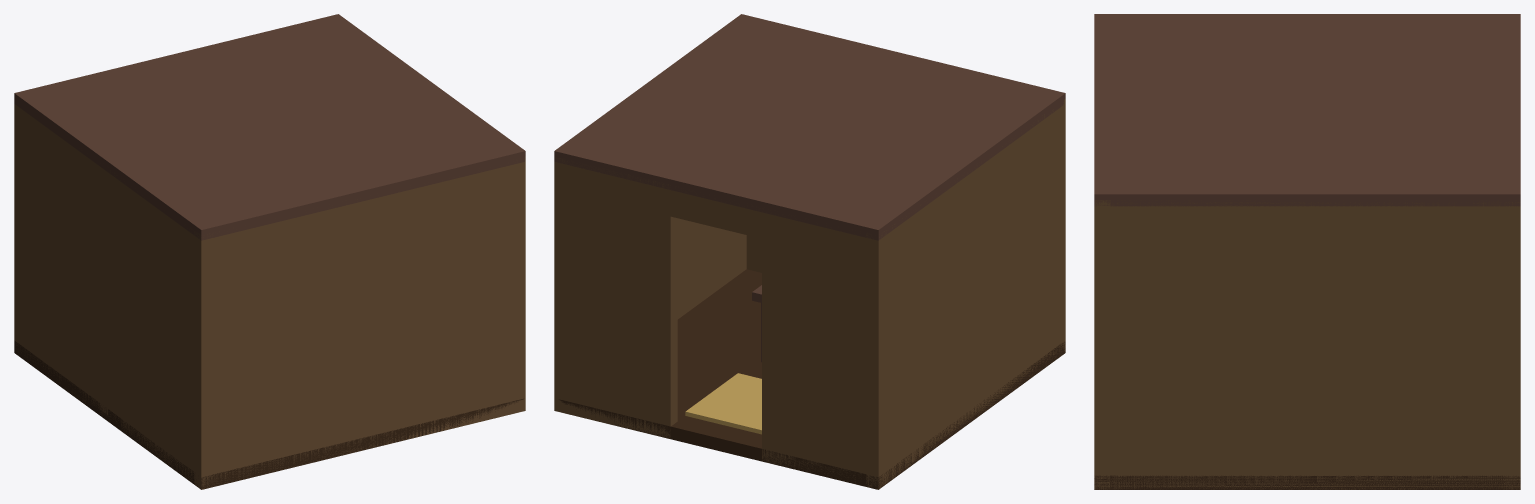
File: hut.glb
3 renders of one model, left to right at view 1: azimuth 30°, elevation 25°; view 2: azimuth 150°, elevation 25°; view 3: azimuth 270°, elevation 25°, orthographic. The views are drawn at different scales.
Parts seen in each view (by area): view 1: wall_north, ceiling, wall_west, floor, wall_east; view 2: ceiling, wall_west, wall_south_r, wall_south_l, floor, wall_east, interior_exit_pad, wall_south_lintel, wall_north; view 3: wall_east, ceiling, floor, wall_north, wall_south_r.
Part boxes in pixels (box(x1,y1,x2,y2)): wall_north: box(194, 158, 525, 489); ceiling: box(14, 14, 525, 240); wall_west: box(14, 104, 213, 489); floor: box(14, 340, 523, 489); wall_east: box(519, 156, 525, 410); ceiling: box(554, 14, 1065, 240); wall_west: box(866, 104, 1064, 489); wall_south_r: box(554, 158, 677, 438); wall_south_l: box(762, 209, 885, 486); floor: box(559, 269, 1065, 489); wall_east: box(554, 157, 746, 412); interior_exit_pad: box(685, 373, 761, 434); wall_south_lintel: box(670, 190, 761, 238); wall_north: box(746, 99, 1065, 351); wall_east: box(1094, 202, 1520, 489); ceiling: box(1094, 14, 1520, 206); floor: box(1094, 475, 1520, 489); wall_north: box(1094, 200, 1110, 489); wall_south_r: box(1504, 202, 1520, 489).
Bounding box in the file's own units: 3.2 × 2.45 × 3.2.
